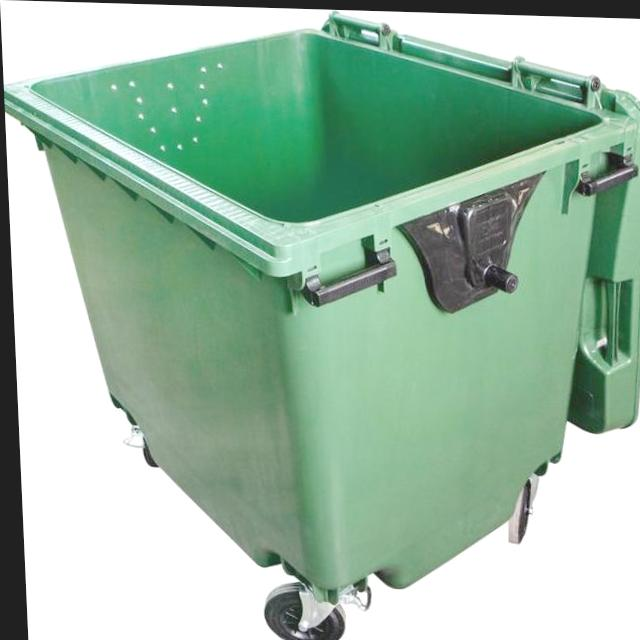Trash_Can_Empty: (1, 15, 640, 601)
